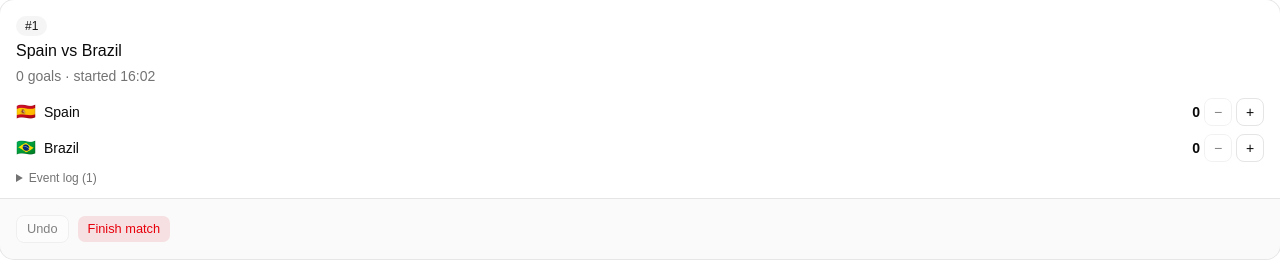
MatchCard › undo › goes inert again once there is nothing left to undo
Step 1. Click the button named "Add a goal for Spain" → [1250, 112], box [1236,98,1264,126]
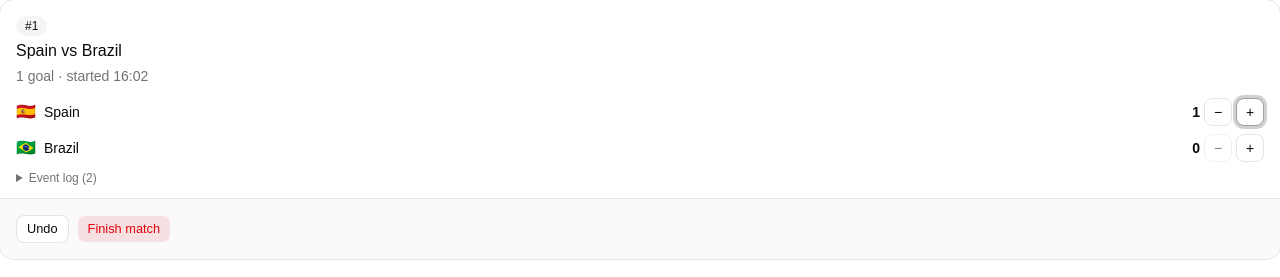
Check: the button with aria-label "Undo last score change" is enabled
Step 2. Click the button with aria-label "Undo last score change" → [42, 229], box [16,215,69,243]
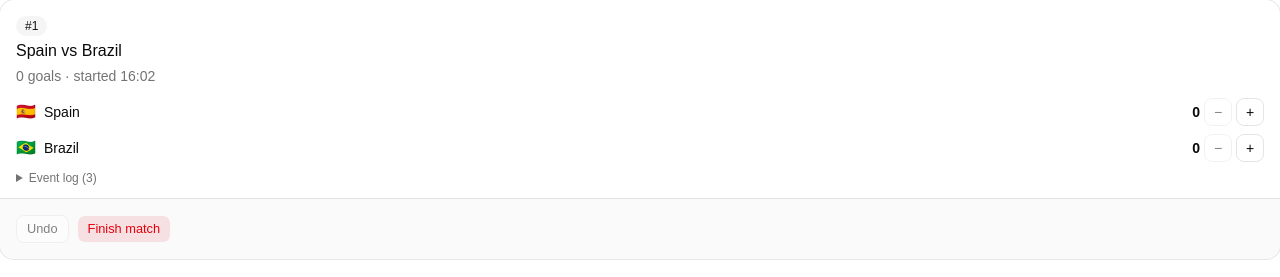
Check: the button with aria-label "Undo last score change" is disabled, box [16,215,69,243]
